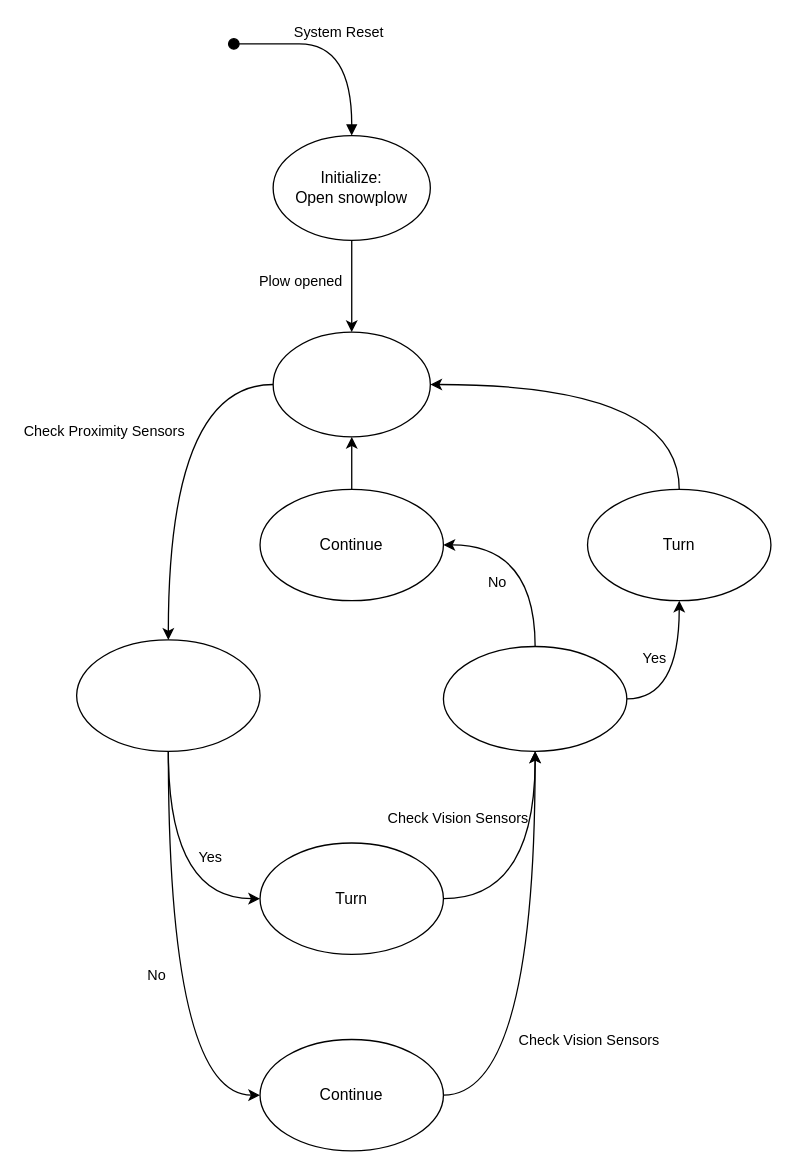
Image size: 794x1174. Some labels were removed from this diagram. Each missing label, with the centre of its shape:
"At track edge?" belongs at point 534,698.
"Gather Snow: Drive forward" belongs at point 351,384.
"Turn required?" belongs at point 167,695.
